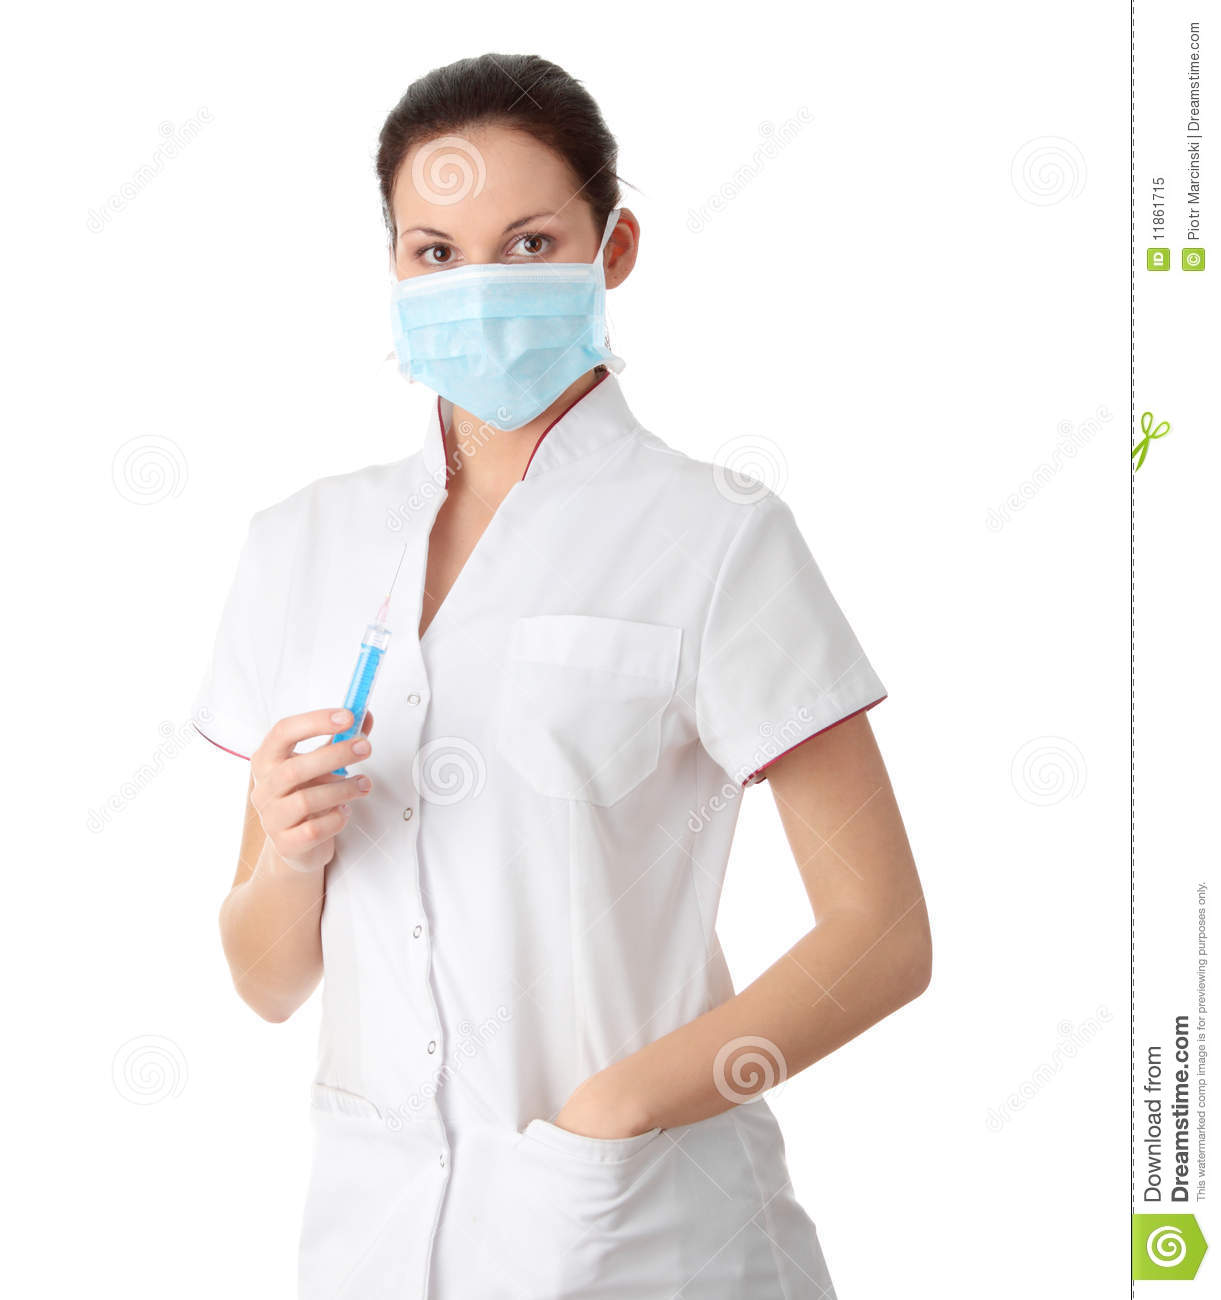mask: (392, 260, 612, 429)
